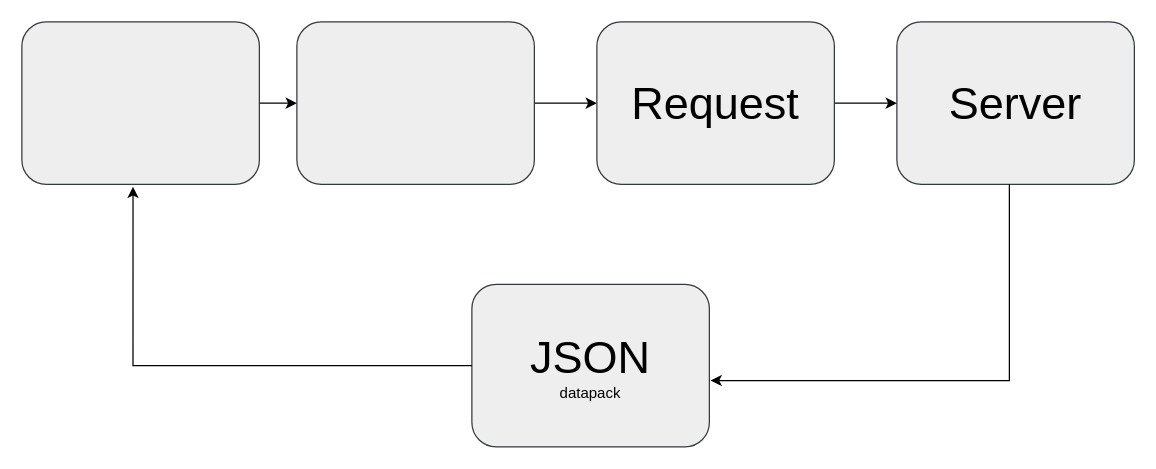
This 1156x469 diagram has some shape labels left out. The box of each missing label's shape, as (x1, y1, x2, y2) in pixels:
Client: (21, 21, 259, 184)
HTTP: (296, 21, 534, 184)
